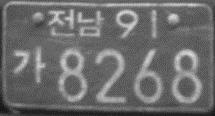1: (147, 9, 159, 38)
2: (95, 46, 128, 106)
6: (132, 49, 163, 103)
8: (55, 47, 89, 104), (171, 48, 203, 105)
9: (113, 6, 141, 40)
가: (12, 45, 46, 83)
전남_O: (46, 8, 105, 37)
